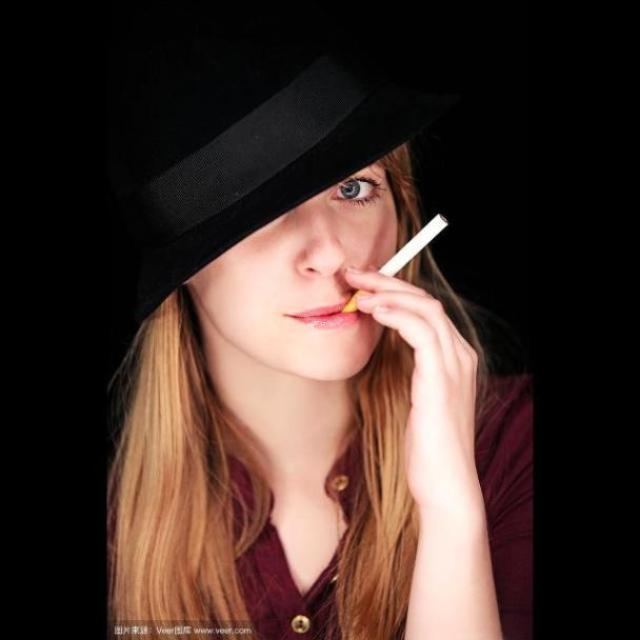rokok: (340, 208, 450, 314)
